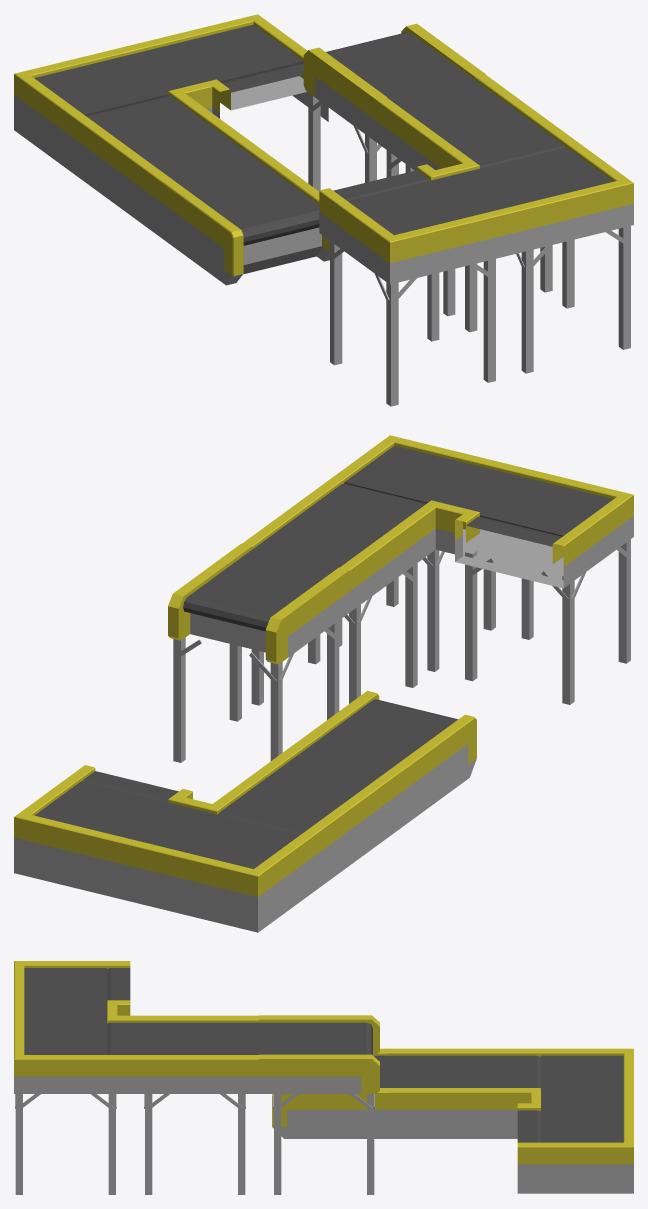
Rendered from ConveyorBelts.fbx.
The picture shows the model from 3 angles, top to bottom: view 1: azimuth 30°, elevation 25°; view 2: azimuth 150°, elevation 25°; view 3: azimuth 270°, elevation 25°; orthographic projection. The views are drawn at different scales.
Parts seen in each view (by area): view 1: Cube.007, Cube.008, Cube, Cube.002, Cube.001, Cube.006, Cube.005, Cube.003; view 2: Cube.007, Cube.005, Cube.001, Cube.006, Cube.003, Cube.002, Cube.008, Cube; view 3: Cube.006, Cube.002, Cube.008, Cube.005, Cube.003, Cube.001, Cube.007, Cube.
Part boxes in pixels (x1,y1,x2,y2): Cube.007: [319, 164, 511, 406]; Cube.008: [450, 131, 633, 373]; Cube: [162, 156, 329, 285]; Cube.002: [84, 98, 269, 238]; Cube.001: [14, 44, 198, 181]; Cube.006: [376, 74, 562, 316]; Cube.005: [303, 23, 484, 191]; Cube.003: [137, 14, 328, 121]; Cube.007: [449, 465, 633, 704]; Cube.005: [168, 543, 349, 762]; Cube.001: [136, 798, 328, 932]; Cube.006: [242, 486, 427, 705]; Cube.003: [14, 765, 197, 902]; Cube.002: [221, 741, 406, 880]; Cube.008: [320, 435, 510, 671]; Cube: [299, 691, 476, 823]; Cube.006: [130, 1015, 259, 1194]; Cube.002: [388, 1048, 517, 1138]; Cube.008: [14, 1010, 130, 1194]; Cube.005: [259, 1015, 379, 1194]; Cube.003: [517, 1097, 633, 1193]; Cube.001: [517, 1048, 633, 1103]; Cube.007: [14, 961, 130, 1015]; Cube: [272, 1048, 388, 1138].
Bounding box in the file's own units: 360 × 234 × 960.
